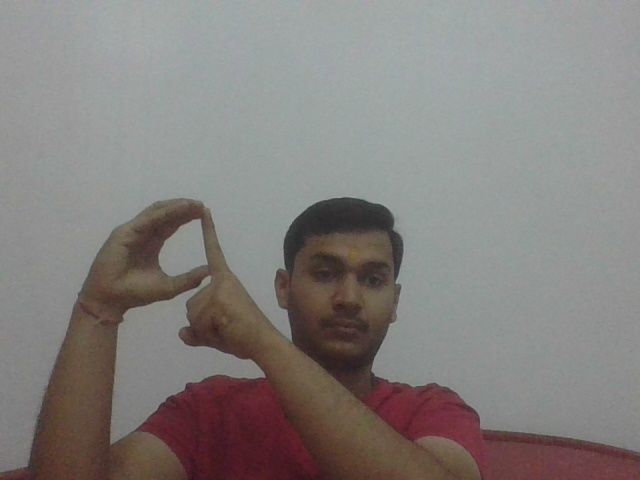D: (85, 195, 259, 362)
